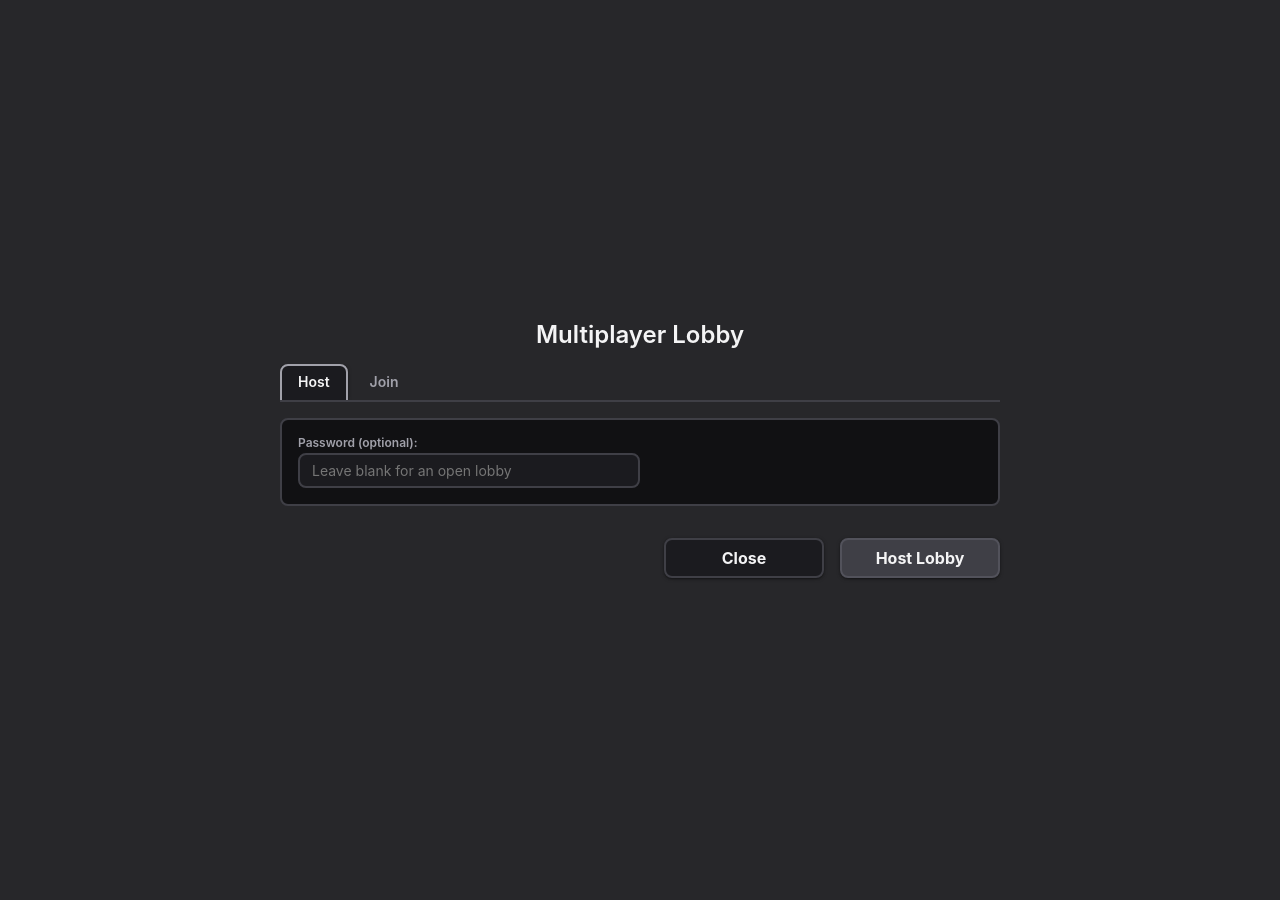
LobbyPage pending actions › disables the footer action while hosting is in progress
Click the button with test id "host-lobby" at (920, 558), box [840, 538, 1000, 578]
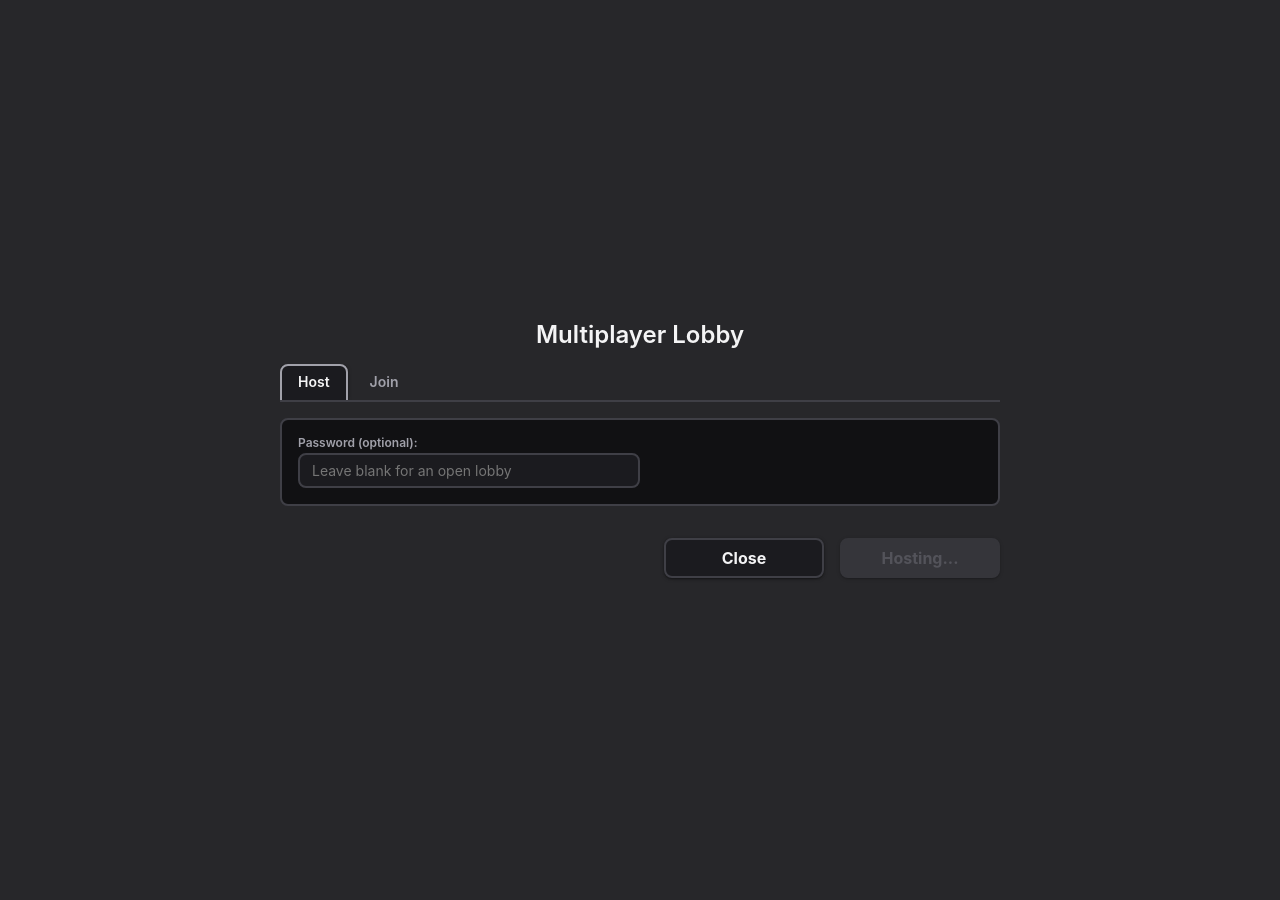
expect the button "Hosting..." is disabled: met, box [840, 538, 1000, 578]
